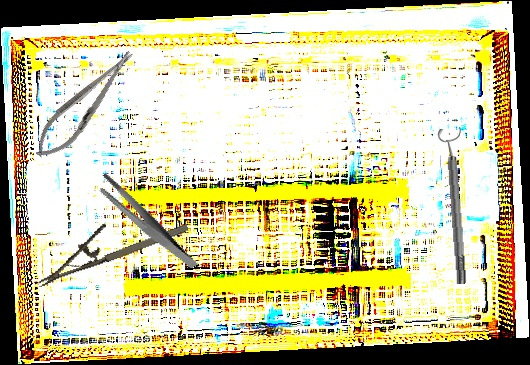Dressing Forceps: (93, 157, 199, 288)
Fixation Ring: (436, 127, 474, 285)
Needle Holder: (25, 41, 145, 168), (26, 198, 191, 288)
